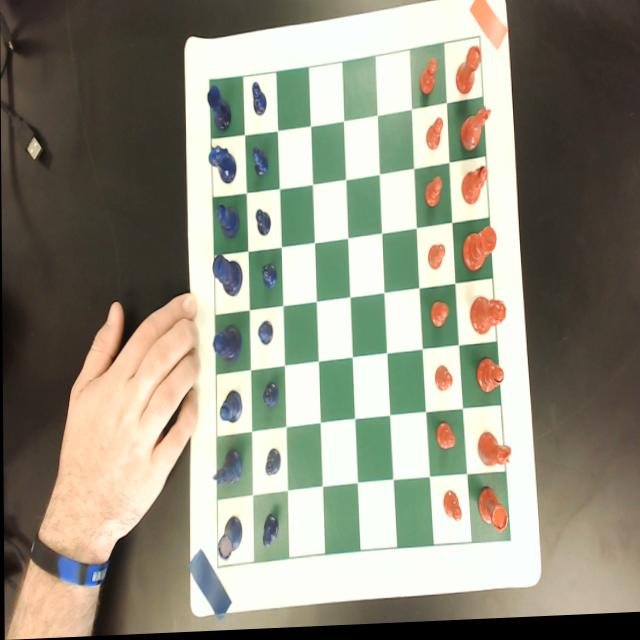B: (218, 391, 243, 426), (216, 205, 239, 240)
K: (213, 256, 243, 299)
N: (206, 148, 237, 188), (212, 450, 242, 489)
P: (261, 515, 279, 551), (251, 81, 267, 120), (263, 449, 281, 480), (252, 148, 268, 180), (255, 211, 271, 241), (262, 383, 278, 412), (261, 264, 277, 292), (257, 321, 273, 348)
Q: (211, 326, 242, 367)
R: (216, 516, 242, 565), (206, 85, 232, 133)
b: (475, 360, 504, 399), (461, 170, 487, 210)
cb: (209, 41, 509, 569)
k: (460, 229, 497, 276)
n: (459, 108, 491, 155), (477, 434, 513, 471)
p: (419, 61, 438, 100), (441, 492, 461, 528), (423, 179, 443, 213), (425, 120, 443, 156), (435, 424, 455, 456), (430, 303, 449, 334), (434, 367, 453, 397), (427, 246, 446, 275)
q: (470, 299, 506, 341)
r: (476, 489, 509, 540), (454, 48, 483, 99)
